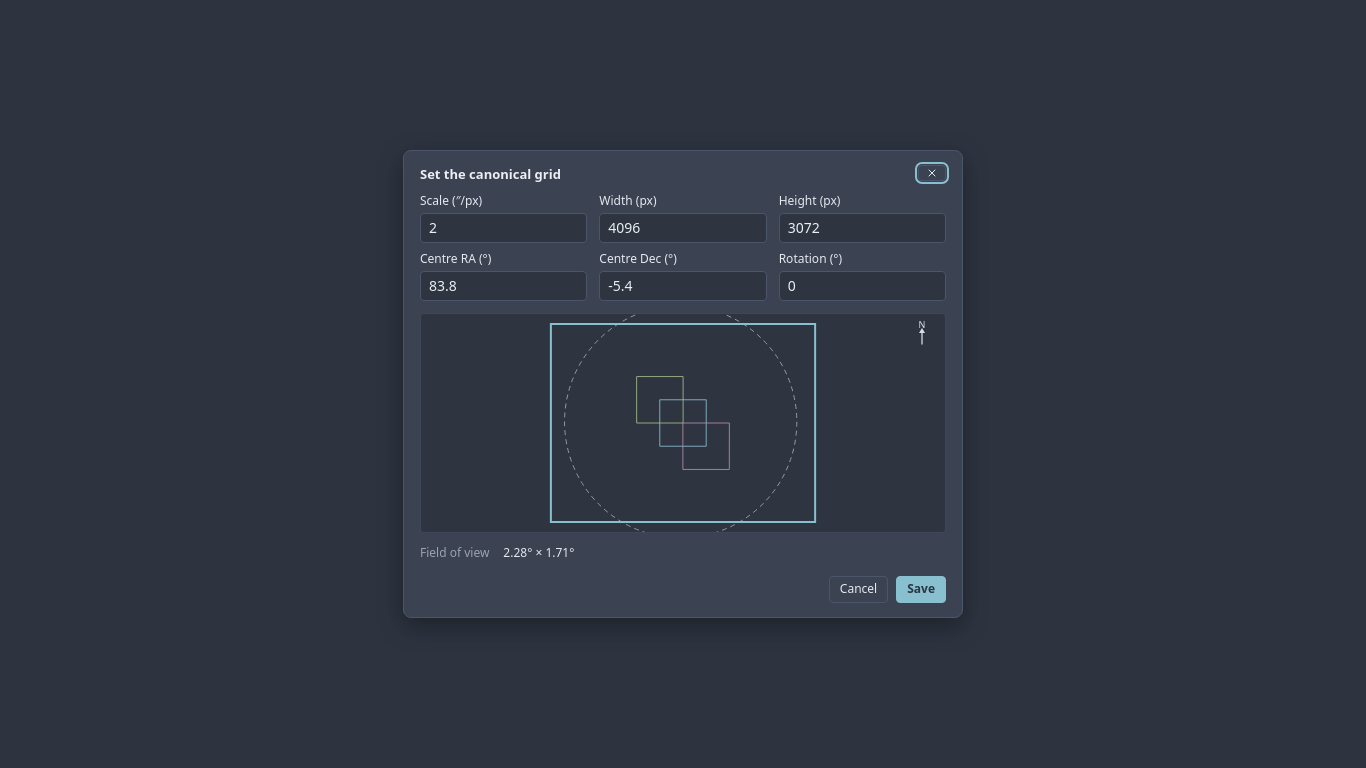
GridDialog › shows a refusal that arrives as a plain string
Click the button "Save" at (921, 590), box [896,576,946,603]
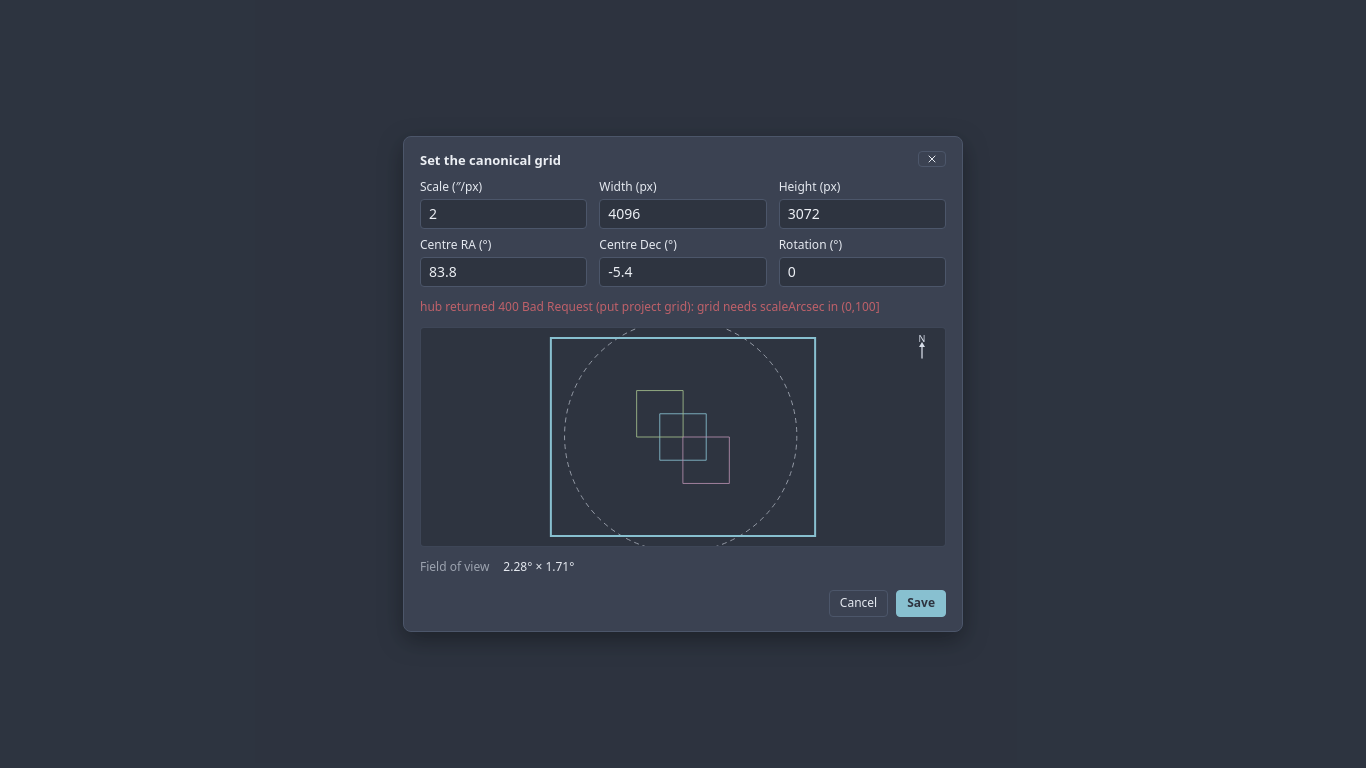
Check: the message shows "hub returned 400 Bad Request (put project grid)", box [420,298,880,315]
